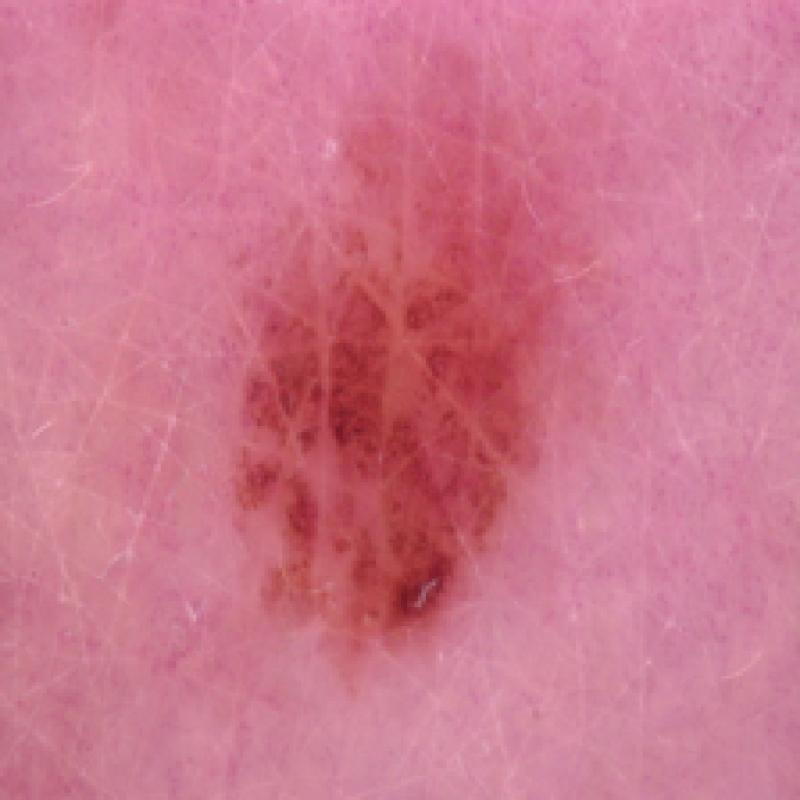benign: (192, 28, 641, 680)
